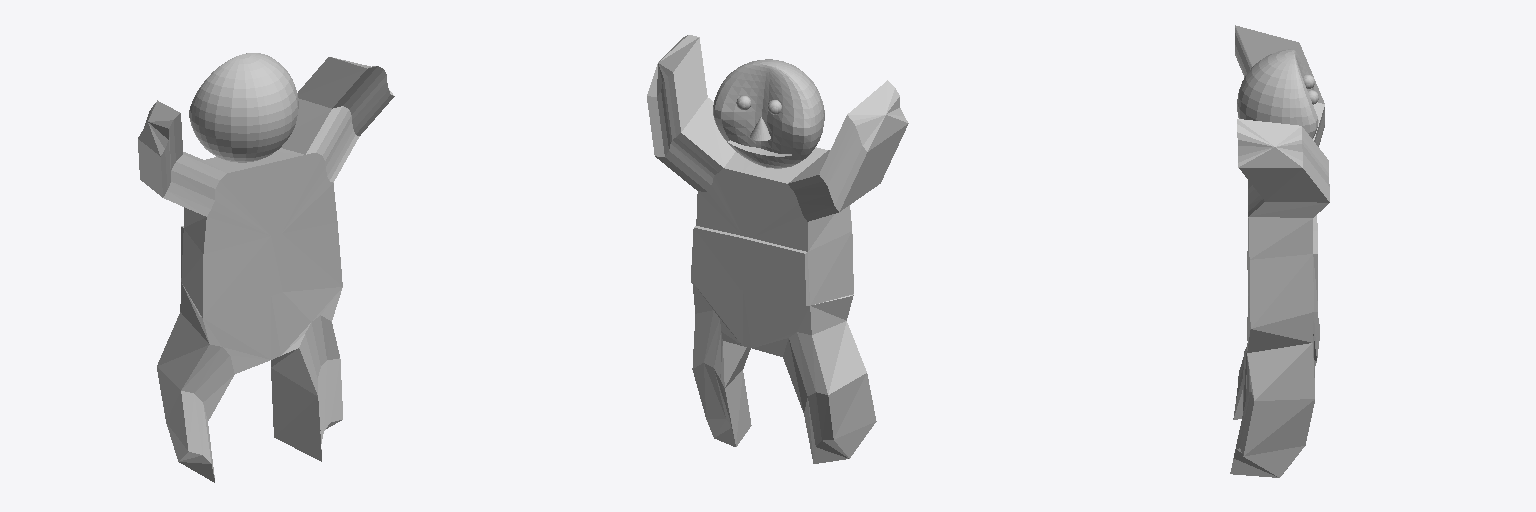
The model's file is manjump_000031.obj.
3 views of the same model, side by side, from view 1: azimuth 30°, elevation 25°; view 2: azimuth 150°, elevation 25°; view 3: azimuth 270°, elevation 25° (orthographic).
Visible parts, largest first — view 1: Cube; view 2: Cube; view 3: Cube.
Part boxes in pixels (x1,y1,x2,y2): Cube: (138,53,394,482); Cube: (647,35,908,463); Cube: (1230,25,1329,477).
Size of the model in its own units: 79.2 by 127 by 28.98.